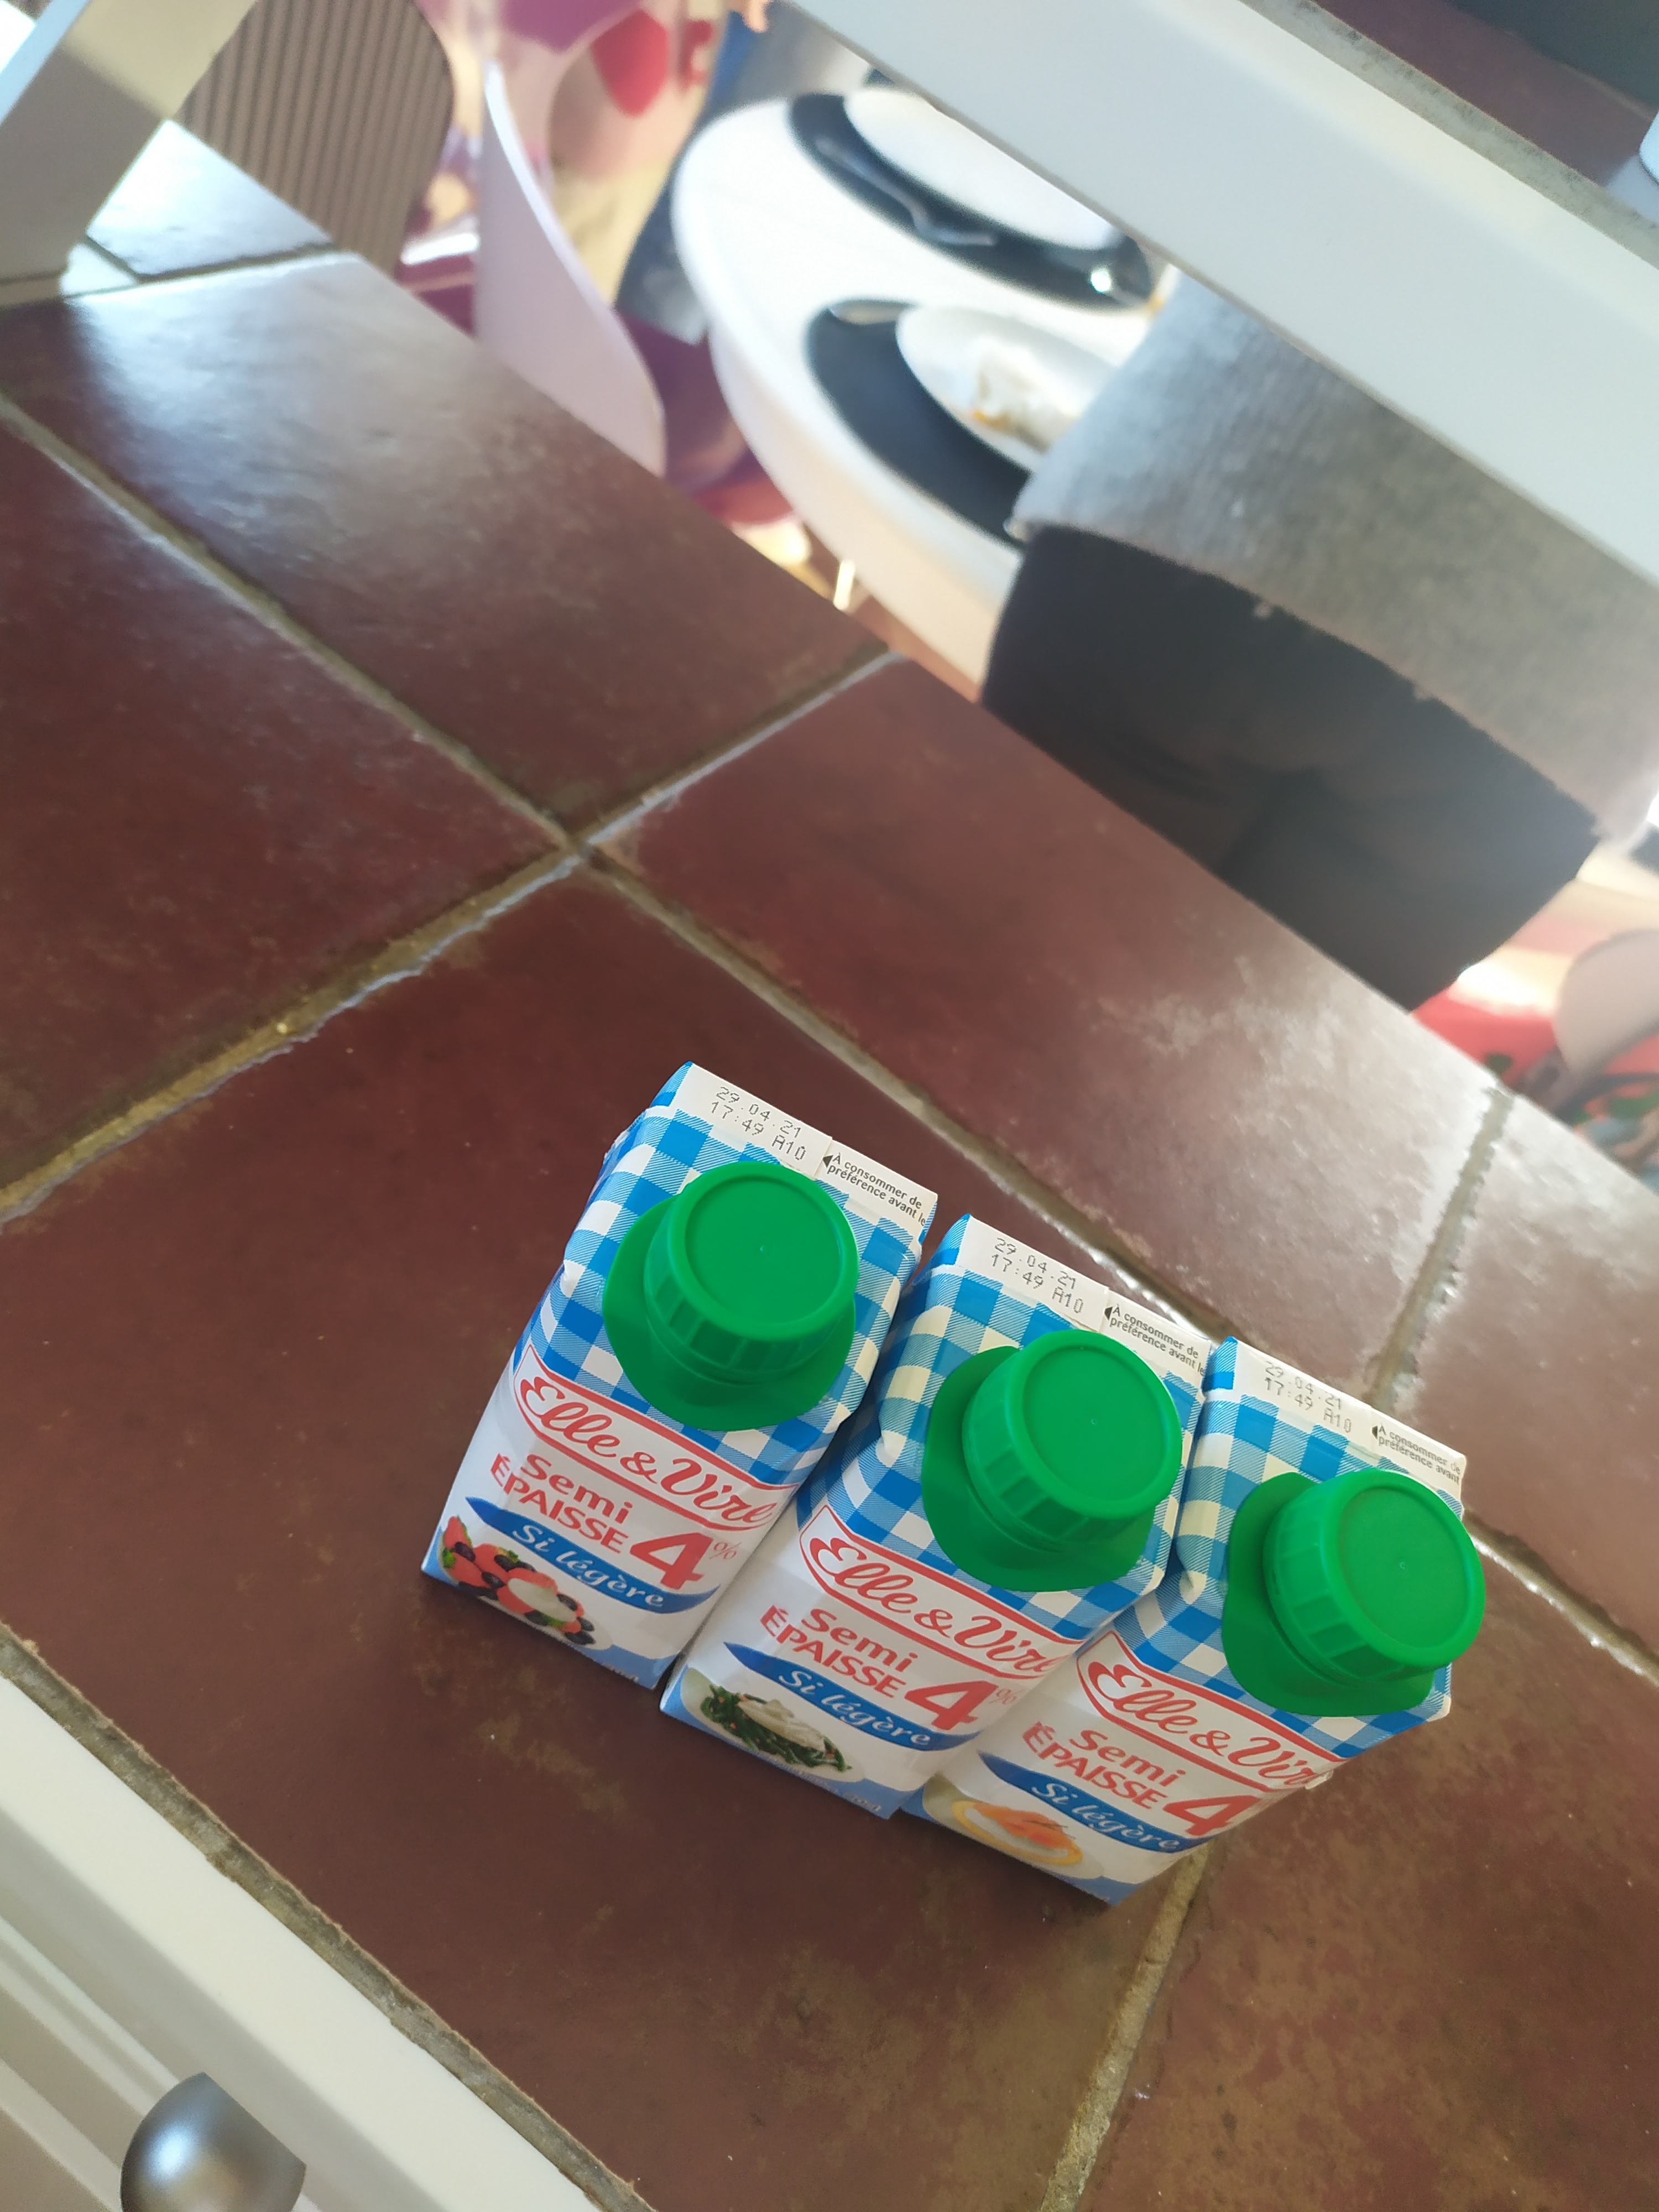cream: (420, 1057, 939, 1707), (897, 1336, 1476, 1918), (669, 1216, 1211, 1822)
